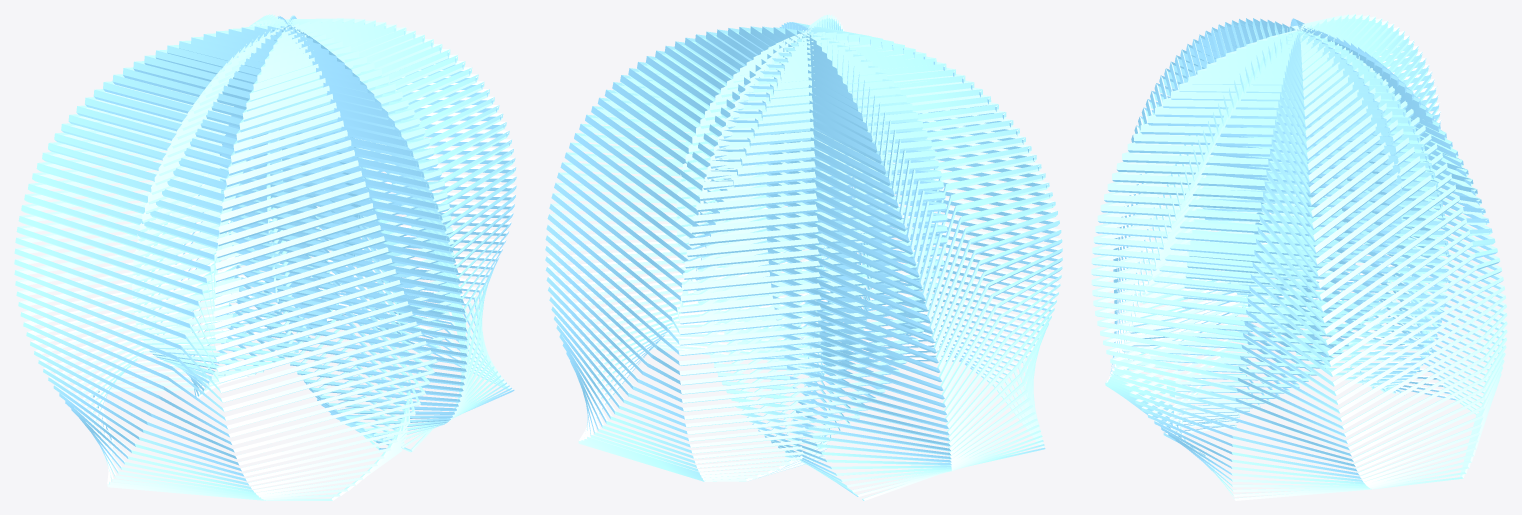
The picture shows the model from 3 angles, left to right: view 1: azimuth 30°, elevation 25°; view 2: azimuth 150°, elevation 25°; view 3: azimuth 270°, elevation 25°; orthographic projection. The views are drawn at different scales.
Size of the model in its own units: 137 by 112 by 111.
